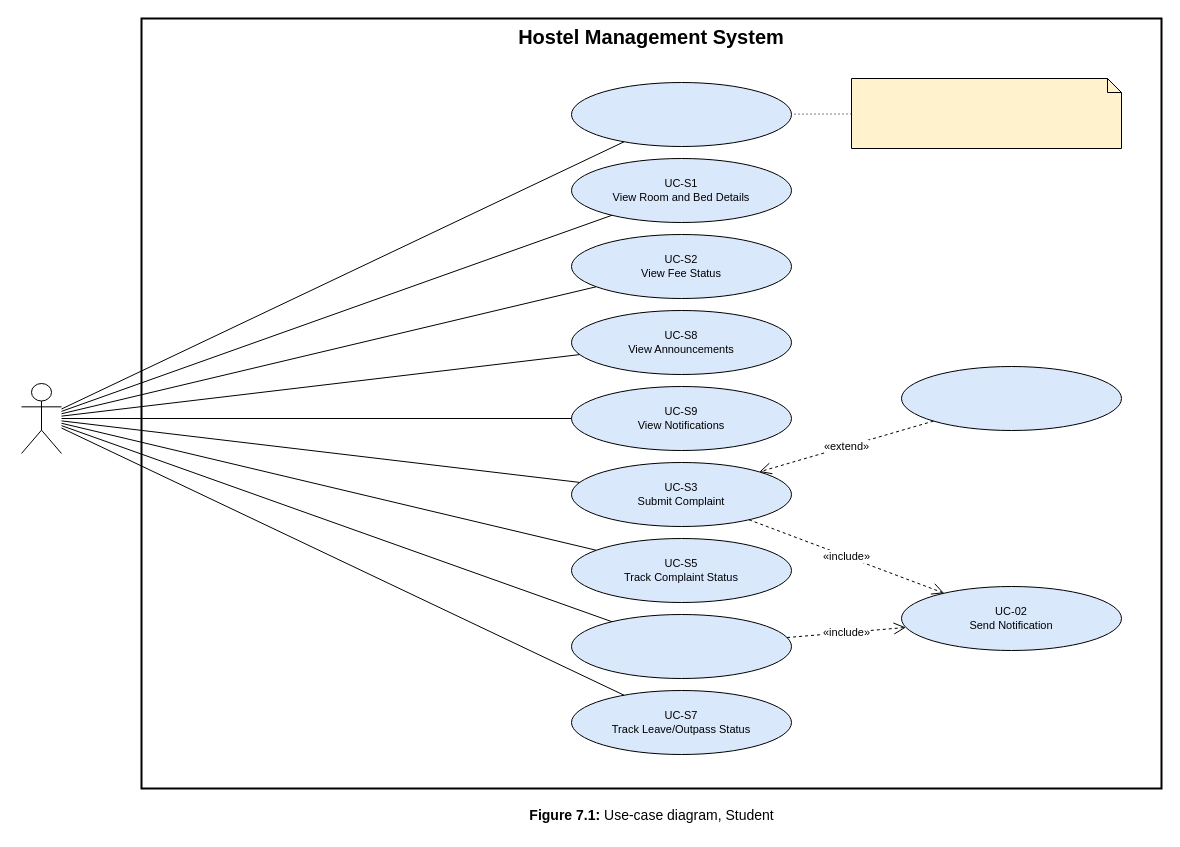
Some shapes in this 1180 by 847 pixel diagram are drawn without their labels. Each missing label, with the box of its shape:
All use cases except Log in require the user to be authenticated.: (850, 78, 1122, 148)
Student: (20, 382, 62, 454)
UC-01 Log in: (570, 82, 792, 146)
UC-S4 Attach Photo: (900, 366, 1122, 430)
UC-S6 Submit Leave/Outpass Request: (570, 614, 792, 678)
